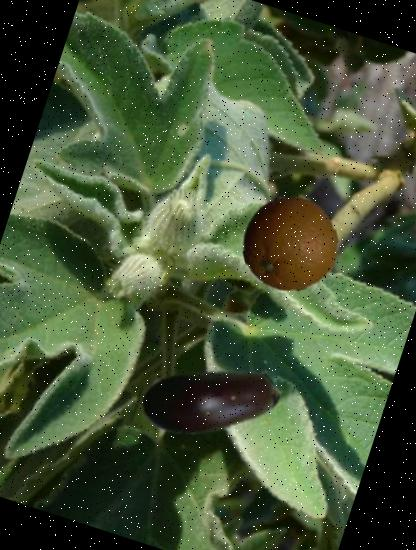Eggplant: (120, 310, 302, 492)
Orange: (229, 183, 350, 304)
